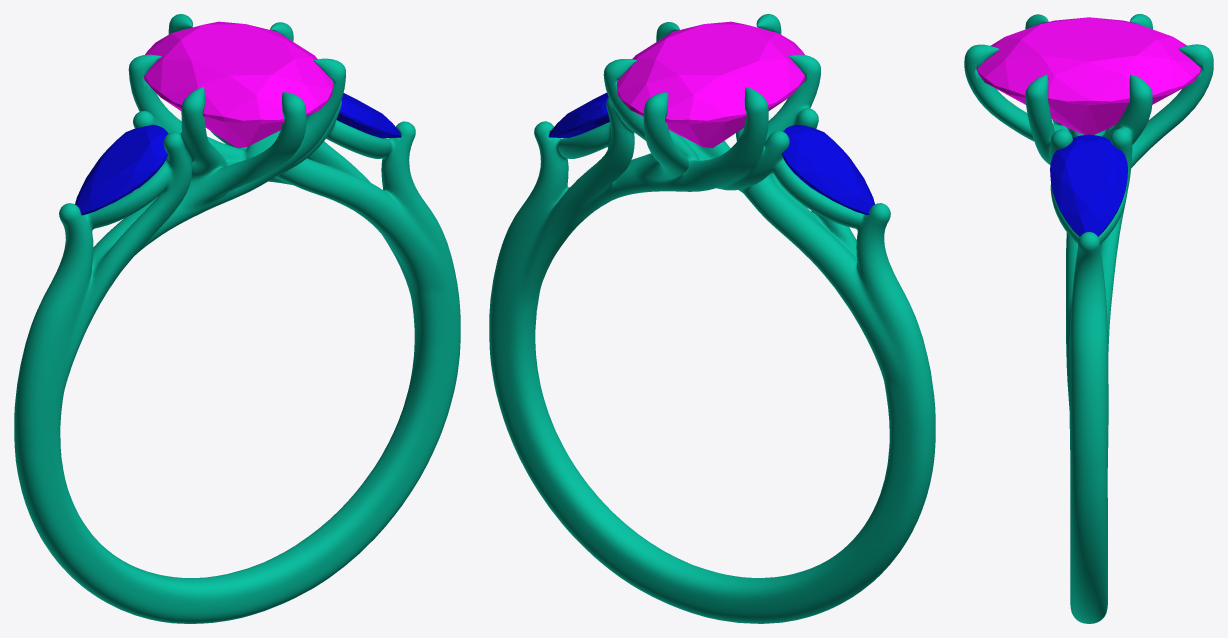
Rendered from BE1D1128_OV_200ct_RENDER.glb.
3 views of the same model, side by side, from view 1: azimuth 30°, elevation 25°; view 2: azimuth 150°, elevation 25°; view 3: azimuth 270°, elevation 25° (orthographic).
Parts seen in each view (by area): view 1: Metal 01, CS_Diamond_Oval, Diamond_Pear_side, Diamond_Pear_side.001; view 2: Metal 01, CS_Diamond_Oval, Diamond_Pear_side, Diamond_Pear_side.001; view 3: Metal 01, CS_Diamond_Oval, Diamond_Pear_side.001.
Part boxes in pixels (x1,y1,x2,y2): Metal 01: [14, 14, 460, 623]; CS_Diamond_Oval: [144, 21, 332, 148]; Diamond_Pear_side: [75, 124, 168, 215]; Diamond_Pear_side.001: [336, 93, 401, 138]; Metal 01: [489, 14, 935, 623]; CS_Diamond_Oval: [617, 21, 805, 148]; Diamond_Pear_side: [781, 124, 874, 215]; Diamond_Pear_side.001: [548, 92, 609, 138]; Metal 01: [964, 14, 1213, 623]; CS_Diamond_Oval: [976, 17, 1201, 134]; Diamond_Pear_side.001: [1050, 134, 1127, 236].
Size of the model in its own units: 20.09 by 24.67 by 9.95.
